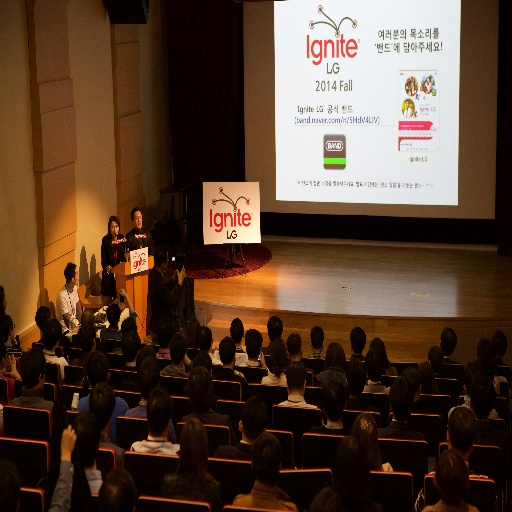hand: (58, 424, 77, 461), (2, 353, 17, 377), (491, 376, 501, 395), (176, 265, 186, 281), (105, 263, 113, 275)
